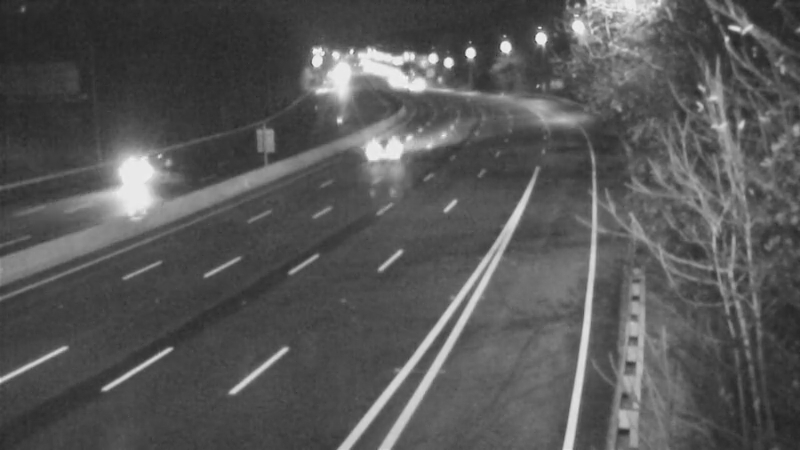vehicle: (97, 133, 177, 213), (366, 123, 416, 173)
